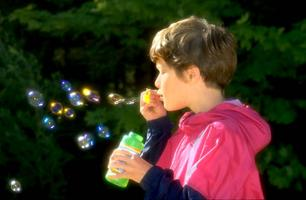person: (104, 15, 273, 200)
